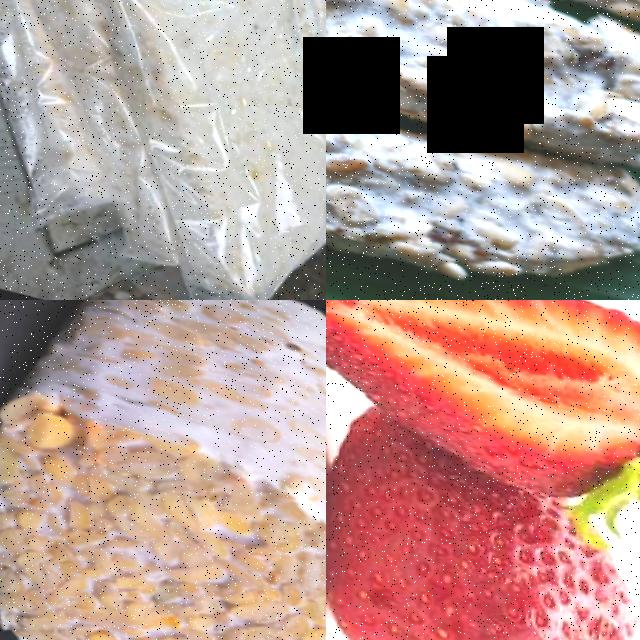strawberry: (326, 437, 640, 640), (326, 300, 640, 488)
tempeh: (0, 300, 326, 640), (326, 49, 640, 300), (326, 0, 640, 178), (115, 52, 326, 300), (19, 0, 319, 83)
